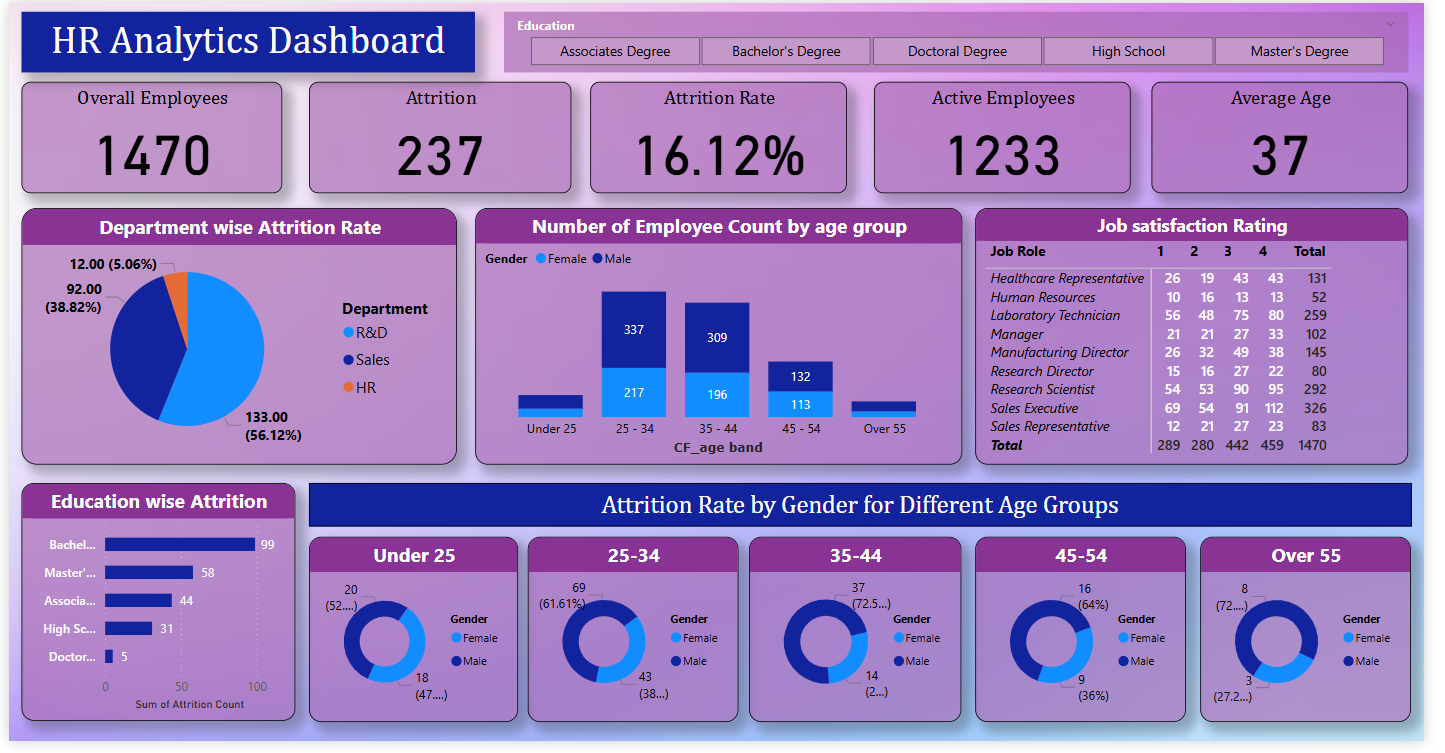

This screenshot's page, from the dashboard's own definition file:
{"tool":"powerbi","page":{"name":"Page 1","canvas":[1380,720],"ordinal":0},"visuals":[{"type":"card","title":"Overall Employees","fields":{"Values":["Sum(HR data.Employee Count)"]},"box":[12.5,76.5,254.5,109.1],"z":0},{"type":"card","title":"Attrition","fields":{"Values":["Sum(HR data.Custom)"]},"box":[292.1,76.5,255.7,109.1],"z":1000},{"type":"card","title":"Attrition Rate","fields":{"Values":["HR data.Attrition Rate"]},"box":[566.6,76.5,250.7,109.1],"z":2000},{"type":"card","title":"Active Employees","fields":{"Values":["HR data.Active employees"]},"box":[843.7,76.5,250.7,109.1],"z":3000},{"type":"card","title":"Average Age","fields":{"Values":["Avg(HR data.Age)"]},"box":[1114.5,76.5,250.7,109.1],"z":4000},{"type":"pieChart","title":"Department wise Attrition Rate","fields":{"Category":["HR data.Department"],"Y":["Sum(HR data.Custom)"]},"box":[12.5,200.6,425,250.7],"z":5000},{"type":"columnChart","title":"Number of Employee Count by age group","fields":{"Category":["HR data.CF_age band"],"Y":["Sum(HR data.Employee Count)"],"Series":["HR data.Gender"]},"box":[455.1,200.6,475.1,250.7],"z":6000},{"type":"pivotTable","title":"Job satisfaction Rating ","fields":{"Rows":["HR data.Job Role"],"Columns":["HR data.Job Satisfaction"],"Values":["Sum(HR data.Employee Count)"]},"box":[942.7,200.6,422.5,250.7],"z":7000},{"type":"barChart","title":"Education wise Attrition","fields":{"Category":["HR data.Education"],"Y":["Sum(HR data.Custom)"]},"box":[12.5,468.9,267,231.9],"z":8000},{"type":"donutChart","title":"Under 25","fields":{"Category":["HR data.Gender"],"Series":["HR data.CF_age band"],"Y":["Sum(HR data.Custom)"]},"box":[292.1,520.3,204.3,180.5],"z":9000},{"type":"donutChart","title":"25-34","fields":{"Category":["HR data.Gender"],"Series":["HR data.CF_age band"],"Y":["Sum(HR data.Custom)"]},"box":[506.5,520.3,205.6,180.5],"z":10000},{"type":"donutChart","title":"45-54","fields":{"Category":["HR data.Gender"],"Series":["HR data.CF_age band"],"Y":["Sum(HR data.Custom)"]},"box":[942.7,520.3,205.6,180.5],"z":11000},{"type":"donutChart","title":"Over 55","fields":{"Category":["HR data.Gender"],"Series":["HR data.CF_age band"],"Y":["Sum(HR data.Custom)"]},"box":[1162.1,520.3,205.6,180.5],"z":12000},{"type":"donutChart","title":"35-44","fields":{"Category":["HR data.Gender"],"Series":["HR data.CF_age band"],"Y":["Sum(HR data.Custom)"]},"box":[722.1,520.3,206.9,180.5],"z":13000},{"type":"textbox","box":[292.1,468.9,1075.6,42.6],"z":14000},{"type":"textbox","box":[12.5,8.8,442.5,58.9],"z":15000},{"type":"slicer","fields":{"Values":["HR data.Education"]},"box":[482.7,8.8,882.6,58.9],"z":16000}]}

Visuals, with their boxes in screenshot pixels (x1, y1, x2, y2), scaled from the page's 1380x720 canvas onto the 1445x753 screenshot:
"Overall Employees" card: [13,80,280,194]
"Attrition" card: [306,80,574,194]
"Attrition Rate" card: [593,80,856,194]
"Active Employees" card: [883,80,1146,194]
"Average Age" card: [1167,80,1430,194]
"Department wise Attrition Rate" pieChart: [13,210,458,472]
"Number of Employee Count by age group" columnChart: [477,210,974,472]
"Job satisfaction Rating " pivotTable: [987,210,1430,472]
"Education wise Attrition" barChart: [13,490,293,733]
"Under 25" donutChart: [306,544,520,733]
"25-34" donutChart: [530,544,746,733]
"45-54" donutChart: [987,544,1202,733]
"Over 55" donutChart: [1217,544,1432,733]
"35-44" donutChart: [756,544,973,733]
textbox: [306,490,1432,535]
textbox: [13,9,476,71]
slicer - HR data.Education: [505,9,1430,71]
